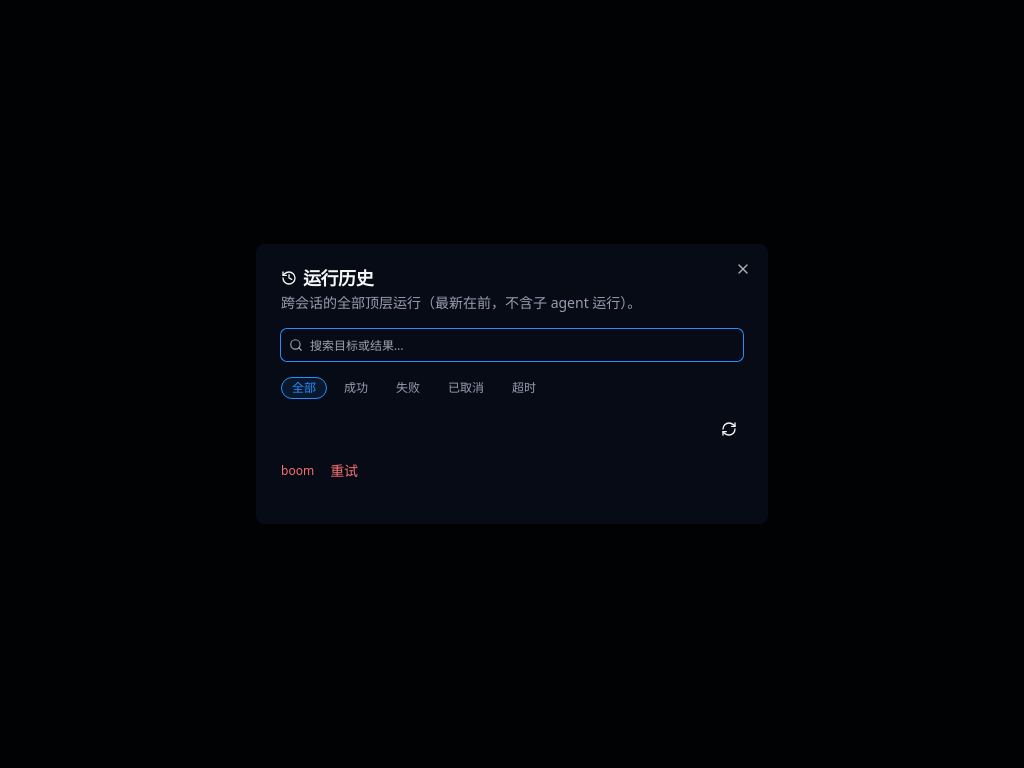
Test case: RunsHistoryDialog › shows error with retry
Expected: the text "boom" is shown, [281, 463, 314, 479]
Click the button "重试": (344, 471) [322, 459, 366, 483]
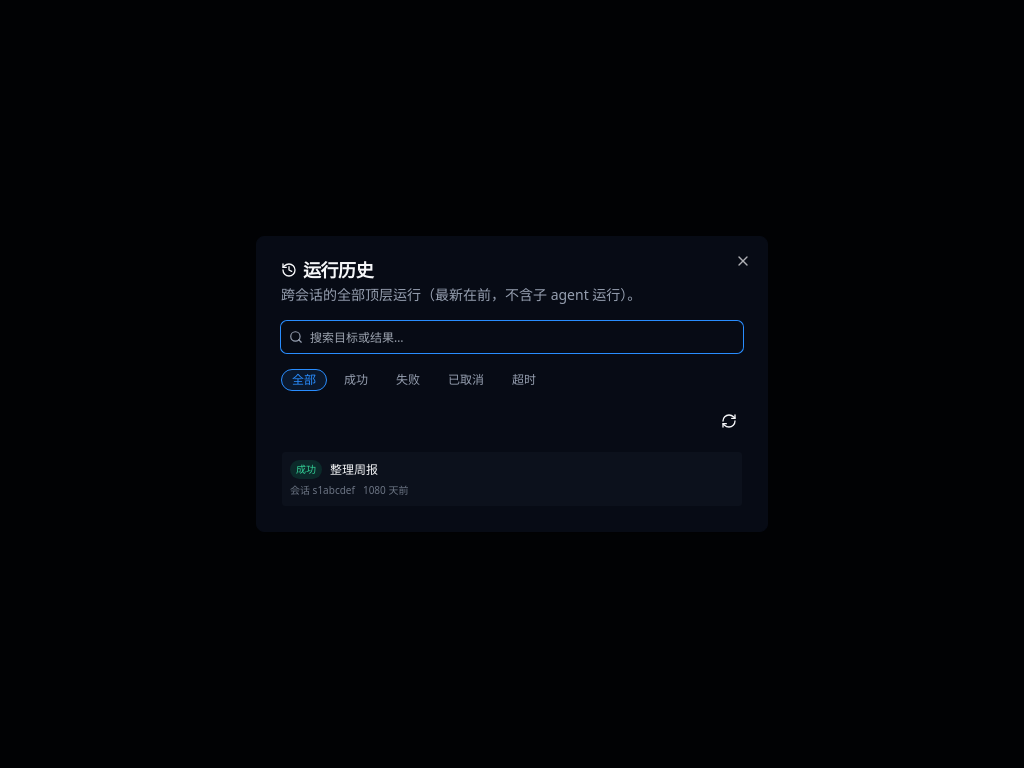
Now the text "整理周报" is shown, box [330, 462, 378, 478]
